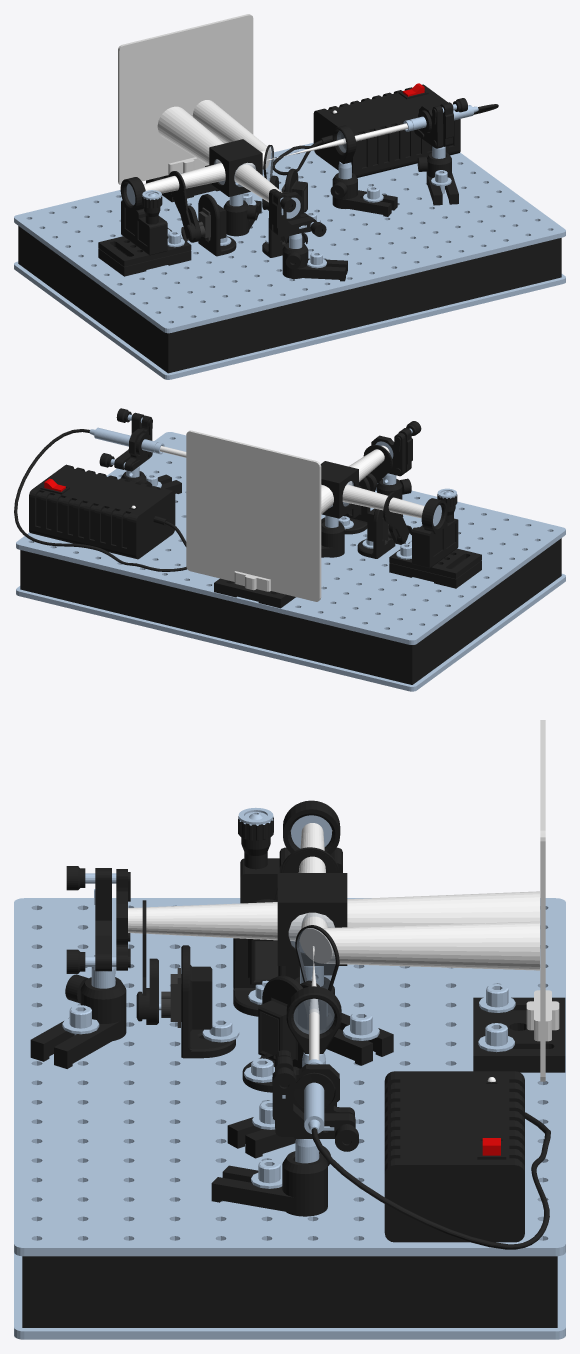
The model's file is MIS1_240205.glb.
3 views of the same model, one above another, from view 1: azimuth 30°, elevation 25°; view 2: azimuth 150°, elevation 25°; view 3: azimuth 270°, elevation 25° (orthographic). The views are drawn at different scales.
Visible parts, largest first — view 1: Base, Schirm, Netzteil, TranslateMirror, RefMirror, Laser, BeamSplitterCube, LaserBeamBB2, Lens, LaserBeamBS, BB1Holder, LaserBeamBB1 (+5 smaller); view 2: Base, Schirm, Netzteil, TranslateMirror, Laser, BeamSplitterCube, RefMirror, LaserBeamBB1, BB1Holder, LaserBeamBB2, BeamBlocker1, BB2Holder (+1 smaller); view 3: Base, Netzteil, Laser, LaserBeamBB2, LaserBeamBS, RefMirror, Schirm, BeamSplitterCube, TranslateMirror, Lens, BB2Holder, BSHolder (+6 smaller).
Boxes of the visible parts, x1,y1,x2,y2 form: Base: [14, 104, 565, 379]; Schirm: [118, 14, 253, 202]; Netzteil: [313, 83, 460, 177]; TranslateMirror: [98, 177, 191, 276]; RefMirror: [268, 189, 347, 281]; Laser: [403, 98, 478, 205]; BeamSplitterCube: [209, 139, 262, 236]; LaserBeamBB2: [157, 106, 282, 202]; Lens: [330, 125, 397, 216]; LaserBeamBS: [192, 100, 270, 169]; BB1Holder: [198, 194, 236, 256]; LaserBeamBB1: [143, 162, 225, 193]; Base: [14, 429, 565, 691]; Schirm: [186, 430, 321, 608]; Netzteil: [29, 464, 175, 559]; TranslateMirror: [389, 488, 481, 588]; Laser: [89, 408, 181, 493]; BeamSplitterCube: [321, 461, 358, 557]; RefMirror: [371, 421, 421, 499]; LaserBeamBB1: [342, 484, 424, 518]; BB1Holder: [357, 508, 395, 558]; LaserBeamBB2: [321, 445, 389, 514]; BeamBlocker1: [383, 491, 412, 544]; BB2Holder: [343, 477, 370, 534]; Base: [14, 898, 565, 1339]; Netzteil: [384, 1071, 524, 1242]; Laser: [211, 1050, 358, 1216]; LaserBeamBB2: [128, 891, 539, 941]; LaserBeamBS: [300, 912, 539, 970]; RefMirror: [30, 866, 130, 1068]; Schirm: [473, 720, 565, 1081]; BeamSplitterCube: [277, 873, 393, 1065]; TranslateMirror: [238, 800, 342, 975]; Lens: [227, 986, 341, 1158]; BB2Holder: [159, 945, 235, 1058]; BSHolder: [242, 975, 310, 1092].
Size of the model in its own units: 4.84 by 2.16 by 3.
